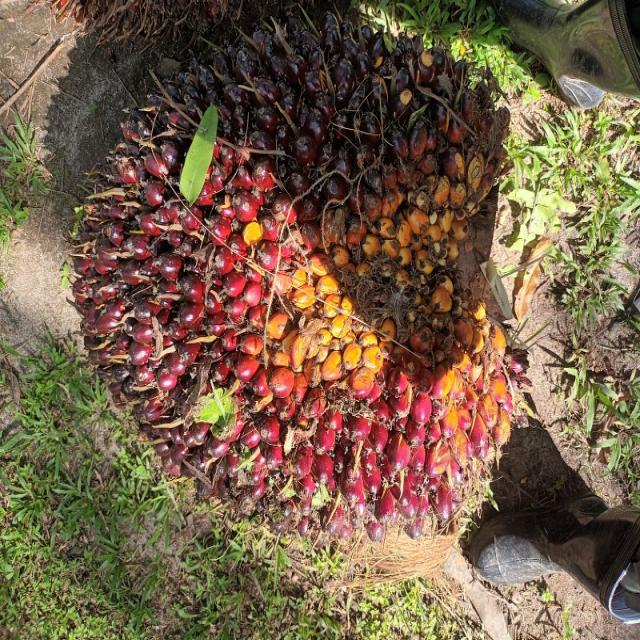fraksi 1: (50, 79, 480, 640)
